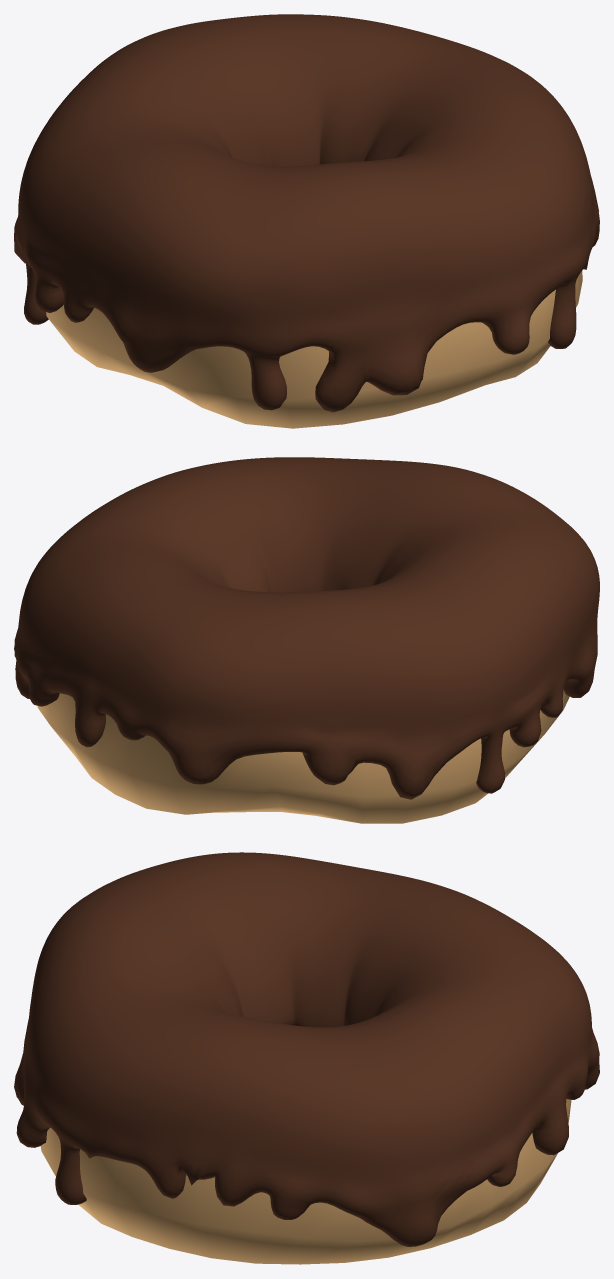
Rendered from chocolate_donut.glb.
The picture shows the model from 3 angles, top to bottom: view 1: azimuth 30°, elevation 25°; view 2: azimuth 150°, elevation 25°; view 3: azimuth 270°, elevation 25°; orthographic projection. The views are drawn at different scales.
Parts seen in each view (by area): view 1: Icing_1, Donut_0; view 2: Icing_1, Donut_0; view 3: Icing_1, Donut_0.
Boxes of the visible parts, bbox=[...] form: Icing_1: bbox=[14, 14, 599, 412]; Donut_0: bbox=[46, 271, 582, 428]; Icing_1: bbox=[14, 457, 599, 799]; Donut_0: bbox=[37, 689, 569, 823]; Icing_1: bbox=[14, 852, 599, 1246]; Donut_0: bbox=[40, 1099, 571, 1264].
Size of the model in its own units: 1.23 by 0.5443 by 1.22.
